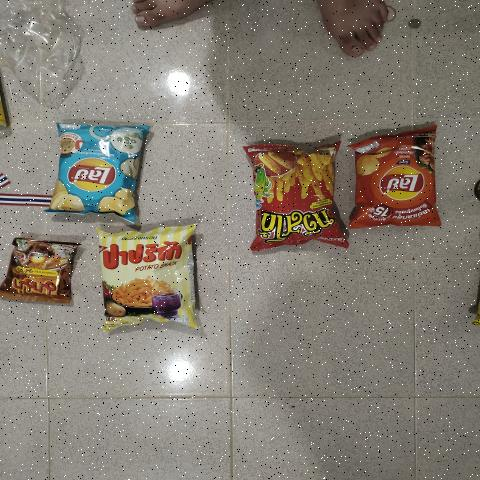lay_blue: (64, 126, 130, 210)
mama: (16, 244, 63, 303)
paprika: (102, 228, 190, 328)
twisco: (257, 142, 334, 240)
